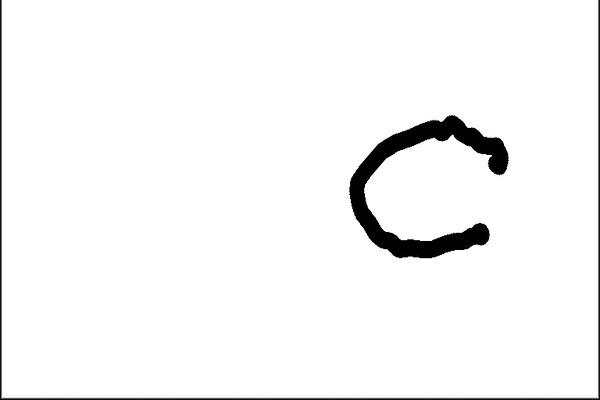C: (343, 112, 511, 260)
